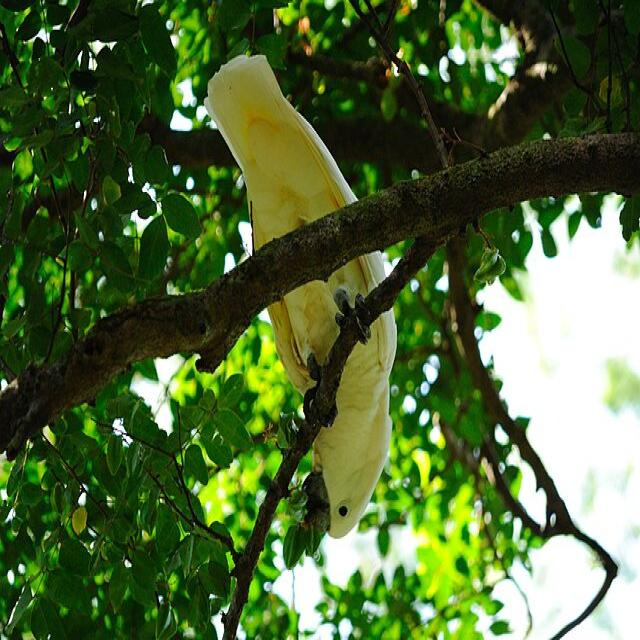Kakatua Putih: (183, 38, 427, 575)
